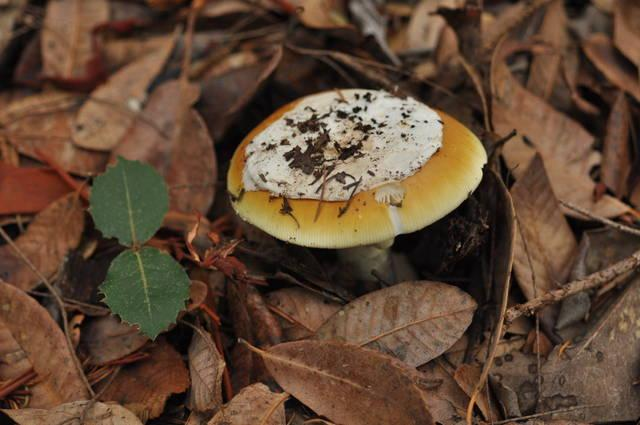edible_mushroom: (225, 86, 488, 283)
